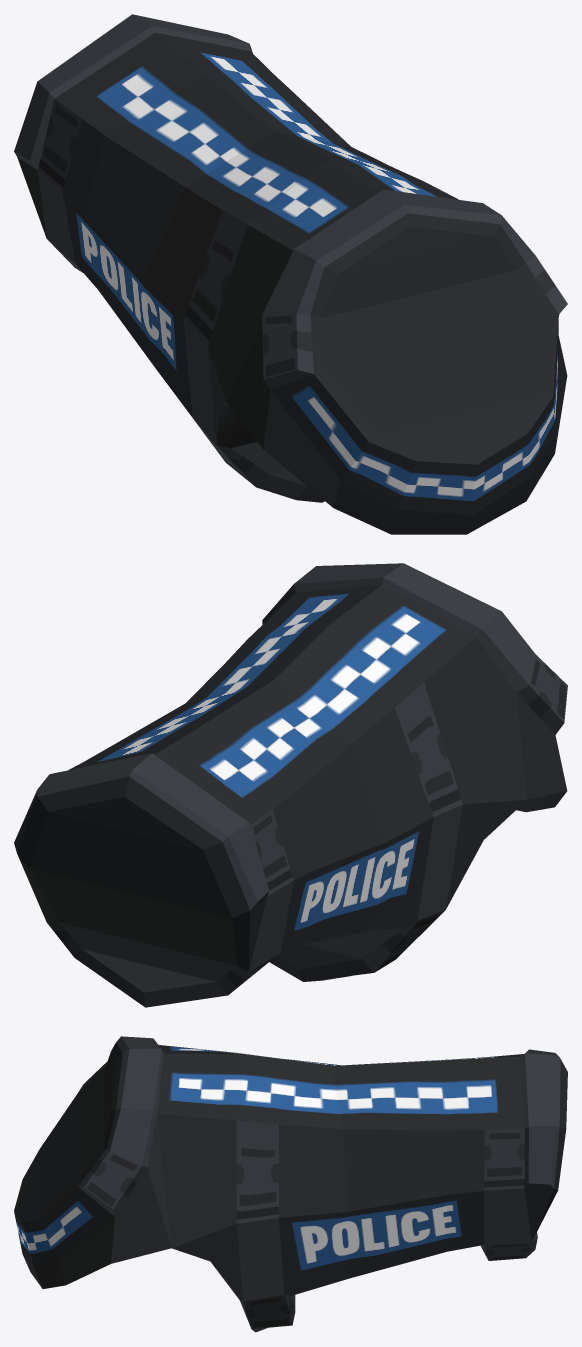
File: SK_Chr_Attach_Vest_Police_Small_01.fbx
3 views of the same model, one above another, from view 1: azimuth 30°, elevation 25°; view 2: azimuth 150°, elevation 25°; view 3: azimuth 270°, elevation 25° (orthographic). The views are drawn at different scales.
Parts seen in each view (by area): view 1: SK_Chr_Attach_Vest_Police_Small_01; view 2: SK_Chr_Attach_Vest_Police_Small_01; view 3: SK_Chr_Attach_Vest_Police_Small_01.
Boxes of the visible parts, box(x1,y1,x2,y2) form: SK_Chr_Attach_Vest_Police_Small_01: box(14, 14, 567, 534); SK_Chr_Attach_Vest_Police_Small_01: box(14, 563, 567, 1007); SK_Chr_Attach_Vest_Police_Small_01: box(14, 1036, 567, 1332).
Bounding box in the file's own units: 33.83 × 38.1 × 67.92.
